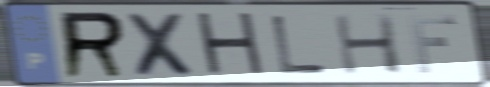F: (405, 13, 460, 75)
H: (192, 10, 271, 80), (329, 12, 406, 77)
L: (268, 13, 331, 76)
R: (59, 9, 130, 81)
X: (121, 11, 204, 79)
